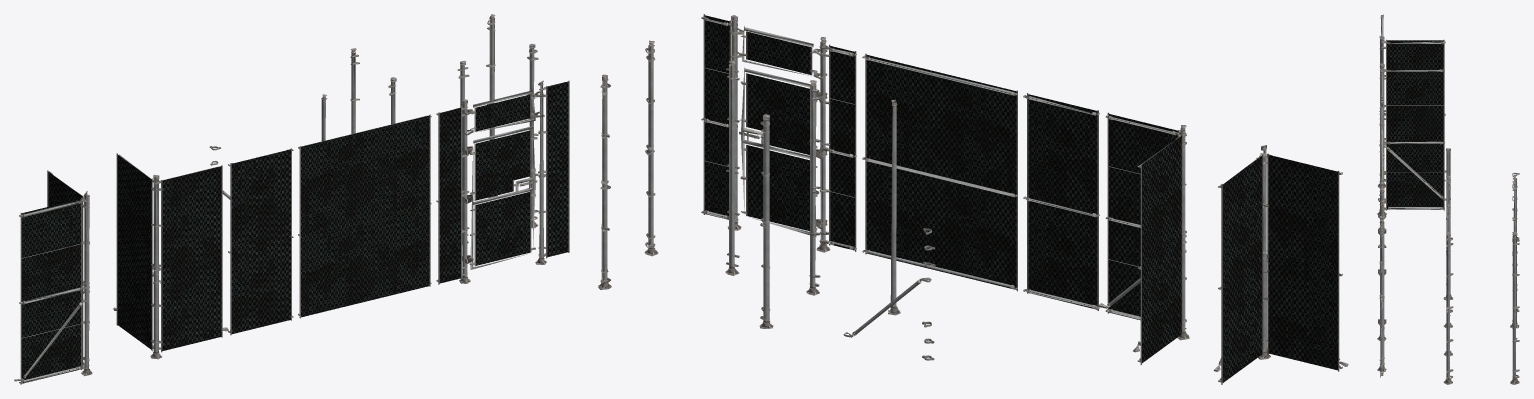
The model's file is modular_chainlink_fence.glb.
3 views of the same model, side by side, from view 1: azimuth 30°, elevation 25°; view 2: azimuth 150°, elevation 25°; view 3: azimuth 270°, elevation 25° (orthographic). The views are drawn at different scales.
Visible parts, largest first — view 1: modular_chainlink_fence_double, modular_chainlink_fence_corner_outer, modular_chainlink_fence_corner_inner, modular_chainlink_fence_door_frame, modular_chainlink_fence, modular_chainlink_fence_door_gate, modular_chainlink_fence_start_01_corner_01, modular_chainlink_fence_start_01_corner_02; view 2: modular_chainlink_fence_double, modular_chainlink_fence_corner_inner, modular_chainlink_fence_corner_outer, modular_chainlink_fence_door_frame, modular_chainlink_fence, modular_chainlink_fence_door_gate, modular_chainlink_fence_end_02, modular_chainlink_post_middle, modular_chainlink_fence_end_01, modular_chainlink_fence_start_01_corner_02, modular_chainlink_fence_start_01_corner_01, modular_chainlink_fence_post; view 3: modular_chainlink_fence_corner_outer, modular_chainlink_fence_corner_inner, modular_chainlink_fence_door_frame, modular_chainlink_fence_start_01_corner_02, modular_chainlink_fence_start_01_corner_01, modular_chainlink_fence_post, modular_chainlink_fence_end_02, modular_chainlink_fence_end_01, modular_chainlink_fence_double.
Part boxes in pixels (left/top/right/bottom): modular_chainlink_fence_double: left=298, top=114, right=431, bottom=318; modular_chainlink_fence_corner_outer: left=113, top=153, right=228, bottom=359; modular_chainlink_fence_corner_inner: left=14, top=170, right=92, bottom=384; modular_chainlink_fence_door_frame: left=436, top=80, right=569, bottom=284; modular_chainlink_fence: left=228, top=148, right=293, bottom=335; modular_chainlink_fence_door_gate: left=469, top=126, right=536, bottom=269; modular_chainlink_fence_start_01_corner_01: left=527, top=43, right=538, bottom=228; modular_chainlink_fence_start_01_corner_02: left=486, top=14, right=497, bottom=197; modular_chainlink_fence_double: left=862, top=53, right=1017, bottom=291; modular_chainlink_fence_corner_inner: left=1213, top=145, right=1348, bottom=384; modular_chainlink_fence_corner_outer: left=1098, top=112, right=1189, bottom=364; modular_chainlink_fence_door_frame: left=701, top=14, right=856, bottom=252; modular_chainlink_fence: left=1023, top=93, right=1099, bottom=310; modular_chainlink_fence_door_gate: left=740, top=67, right=817, bottom=236; modular_chainlink_fence_end_02: left=759, top=114, right=773, bottom=328; modular_chainlink_post_middle: left=725, top=60, right=739, bottom=275; modular_chainlink_fence_end_01: left=806, top=80, right=820, bottom=295; modular_chainlink_fence_start_01_corner_02: left=598, top=74, right=611, bottom=289; modular_chainlink_fence_start_01_corner_01: left=644, top=40, right=658, bottom=256; modular_chainlink_fence_post: left=888, top=99, right=900, bottom=315; modular_chainlink_fence_corner_outer: left=1377, top=63, right=1450, bottom=215; modular_chainlink_fence_corner_inner: left=1377, top=14, right=1446, bottom=187; modular_chainlink_fence_door_frame: left=1377, top=182, right=1386, bottom=377; modular_chainlink_fence_start_01_corner_02: left=1510, top=231, right=1519, bottom=384; modular_chainlink_fence_start_01_corner_01: left=1443, top=231, right=1453, bottom=384; modular_chainlink_fence_post: left=1443, top=148, right=1453, bottom=300; modular_chainlink_fence_end_02: left=1510, top=175, right=1519, bottom=328; modular_chainlink_fence_end_01: left=1443, top=175, right=1452, bottom=328; modular_chainlink_fence_double: left=1380, top=126, right=1383, bottom=182.
Bounding box in the file's own units: 8.11 × 2.5 × 2.15.
Materials: 2 (2 with a texture image).
